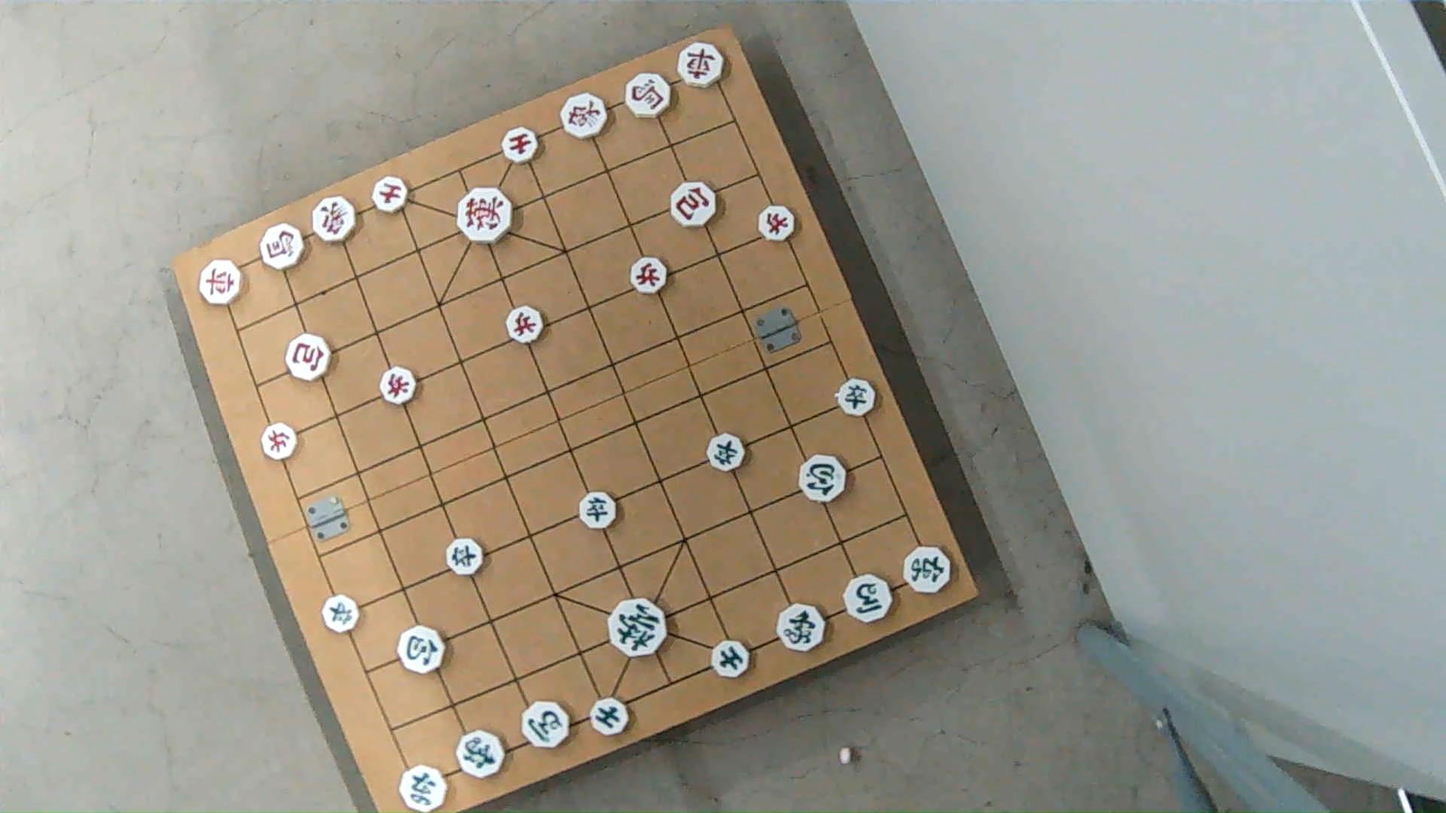cha_green: (901, 544, 954, 595), (395, 765, 448, 809)
cha_red: (674, 43, 726, 86), (197, 261, 243, 303)
jol_green: (836, 379, 881, 415), (706, 435, 749, 470), (319, 597, 362, 632), (578, 491, 621, 526), (447, 541, 487, 577)
jol_red: (629, 258, 669, 294), (504, 308, 545, 343), (380, 367, 419, 403), (756, 204, 796, 239), (258, 423, 298, 457)
ma_green: (842, 572, 892, 621), (520, 701, 572, 748)
ma_red: (622, 74, 671, 117), (258, 226, 304, 269)
po_green: (396, 625, 452, 674), (798, 456, 848, 503)
po_red: (285, 335, 334, 380), (673, 183, 722, 226)
sa_green: (712, 641, 753, 678), (590, 701, 630, 736)
sa_red: (500, 126, 541, 162), (370, 176, 412, 211)
sang_green: (456, 728, 506, 779), (776, 604, 828, 652)
sang_red: (313, 196, 357, 245), (559, 96, 609, 139)
wang_green: (609, 600, 670, 656)
wang_red: (454, 190, 514, 244)
